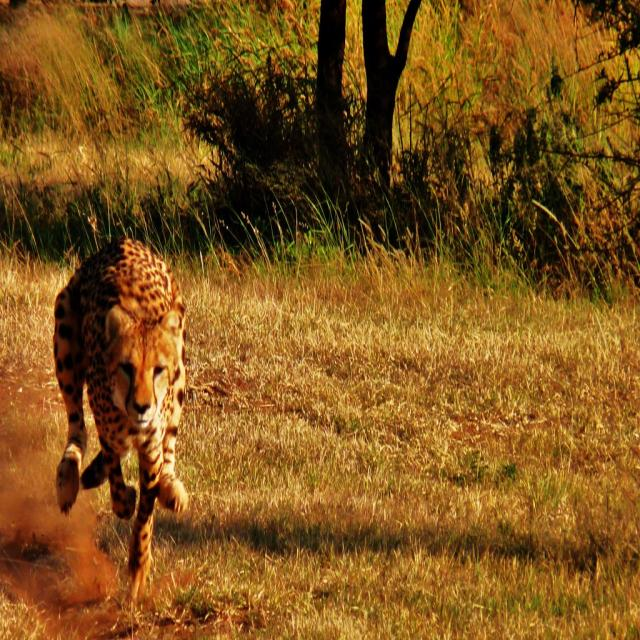Cheetah: (46, 223, 205, 601)
